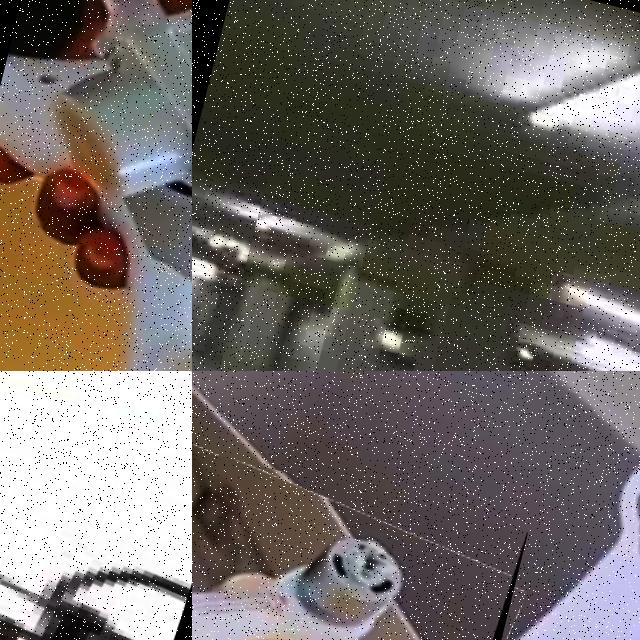drone: (192, 424, 527, 640), (0, 0, 192, 371), (0, 371, 192, 640)
